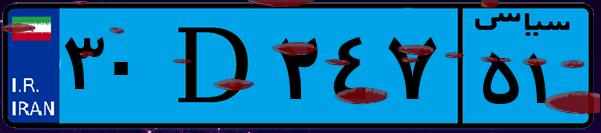0: (110, 28, 158, 98)
1: (525, 38, 570, 115)
2: (270, 28, 330, 110)
3: (57, 26, 110, 100)
4: (330, 28, 385, 110)
5: (475, 38, 525, 113)
7: (385, 28, 445, 110)
D: (158, 12, 270, 120)
